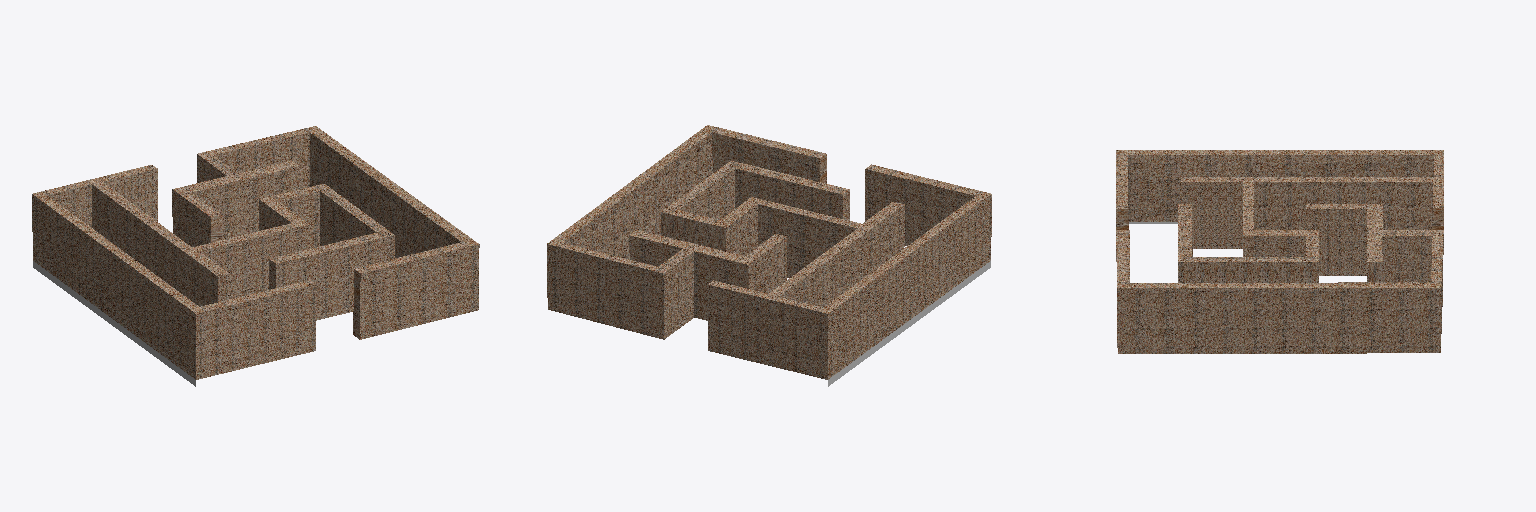
3 views of the same model, side by side, from view 1: azimuth 30°, elevation 25°; view 2: azimuth 150°, elevation 25°; view 3: azimuth 270°, elevation 25° (orthographic).
Visible parts, largest first — view 1: walls; view 2: walls; view 3: walls.
Part boxes in pixels (x1,y1,x2,y2): walls: (32,126,479,386); walls: (547,125,991,386); walls: (1116,150,1443,353).
Size of the model in its own units: 9.54 by 2.36 by 9.55.
2 materials, 1 textured.